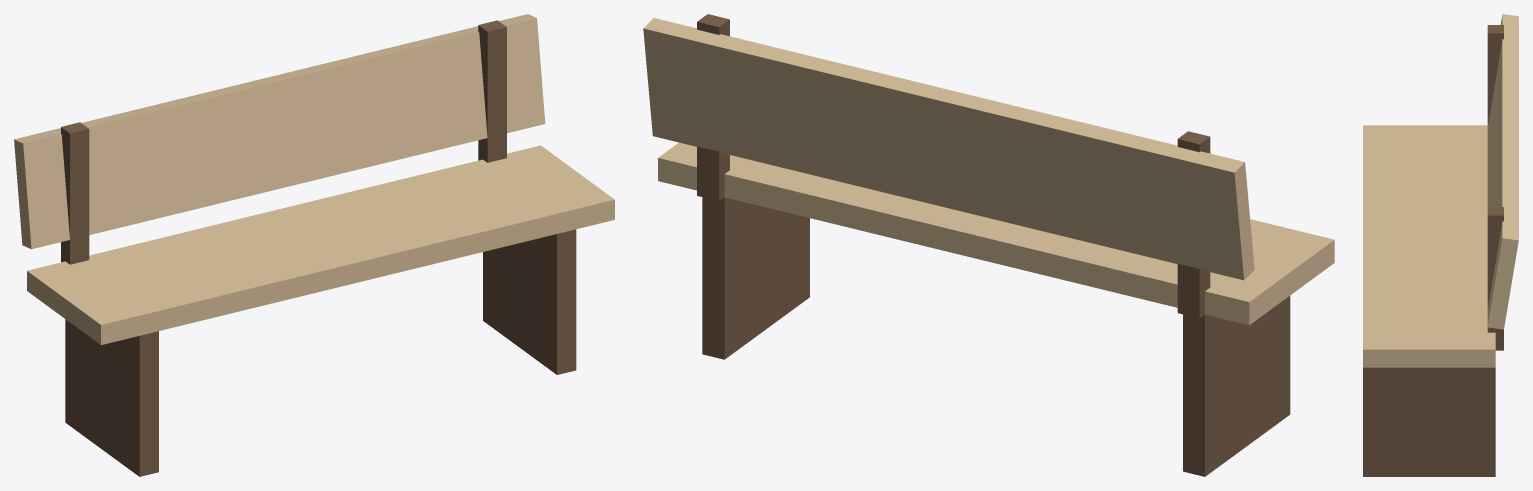
Rendered from bench.glb.
The picture shows the model from 3 angles, left to right: view 1: azimuth 30°, elevation 25°; view 2: azimuth 150°, elevation 25°; view 3: azimuth 270°, elevation 25°; orthographic projection. The views are drawn at different scales.
Visible parts, largest first — view 1: bench; view 2: bench; view 3: bench.
Boxes of the visible parts, box(x1,y1,x2,y2) form: bench: box(14, 14, 614, 476); bench: box(643, 14, 1334, 476); bench: box(1363, 14, 1518, 476).
Bounding box in the file's own units: 1.6 × 0.87 × 0.4696.
